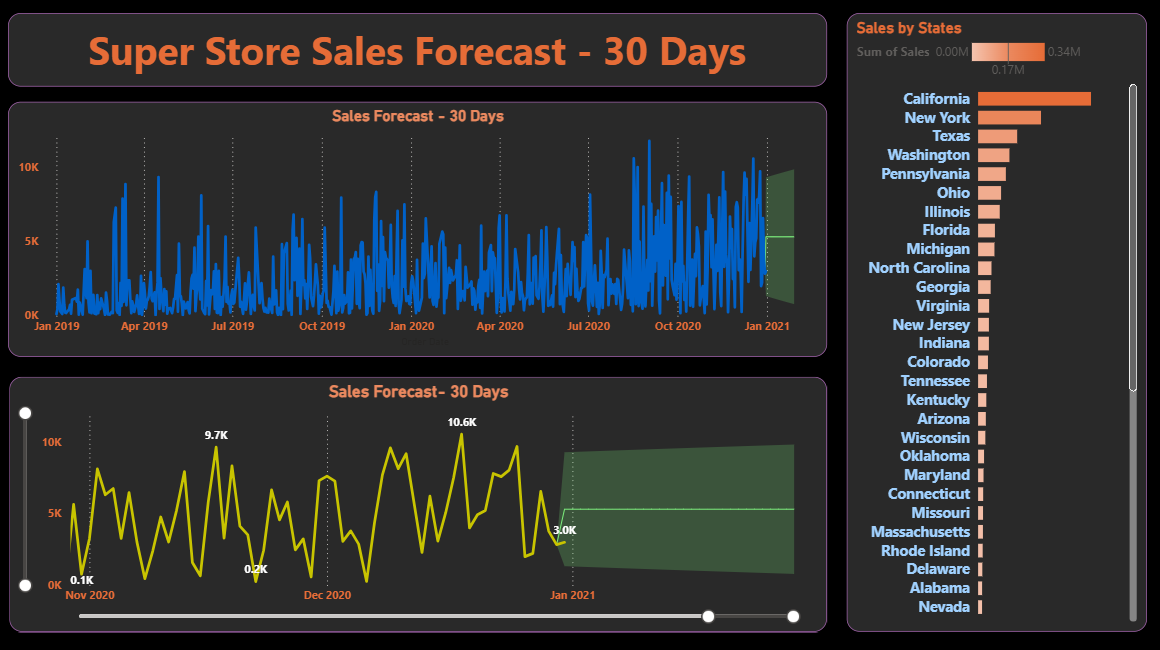

The page's visual inventory and layout, read from the dashboard file:
{"tool":"powerbi","page":{"name":"Page 2","canvas":[1280,720],"ordinal":1},"visuals":[{"type":"lineChart","title":"Sales Forecast - 30 Days","fields":{"Y":["Sum(SuperStore_Sales_Dataset.Sales)"],"Category":["SuperStore_Sales_Dataset.Order Date"]},"box":[11,113.9,898.8,279.9],"z":0},{"type":"lineChart","title":"Sales Forecast- 30 Days","fields":{"Y":["Sum(SuperStore_Sales_Dataset.Sales)"],"Category":["SuperStore_Sales_Dataset.Order Date"]},"box":[12.3,415.8,897.4,279.9],"z":1000},{"type":"textbox","box":[11,16.5,898.8,81],"z":2000},{"type":"clusteredBarChart","title":"Sales by States","fields":{"Category":["SuperStore_Sales_Dataset.State"],"Y":["Sum(SuperStore_Sales_Dataset.Sales)"]},"box":[931.7,16.5,329.3,679.2],"z":3000}]}

Visuals, with their boxes in screenshot pixels (x1, y1, x2, y2), scaled from the page's 1280x720 canvas onto the 1160x650 screenshot:
"Sales Forecast - 30 Days" lineChart: (10, 103, 825, 356)
"Sales Forecast- 30 Days" lineChart: (11, 375, 824, 628)
textbox: (10, 15, 825, 88)
"Sales by States" clusteredBarChart: (844, 15, 1143, 628)
